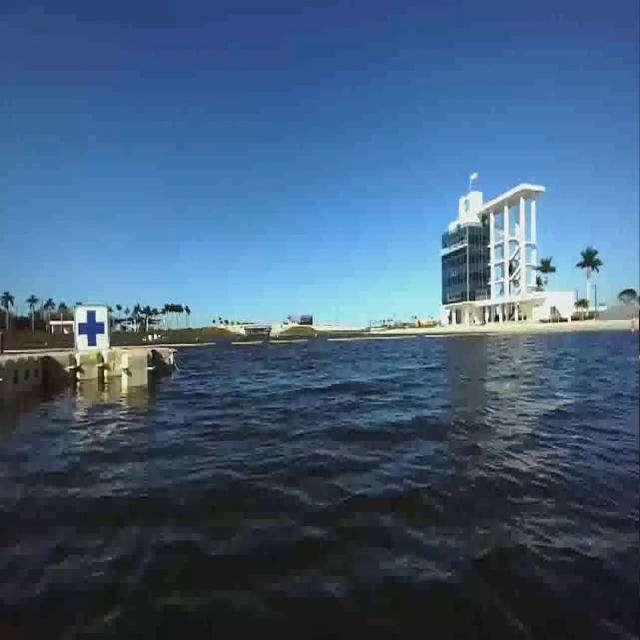blue-cross: (72, 297, 112, 353)
